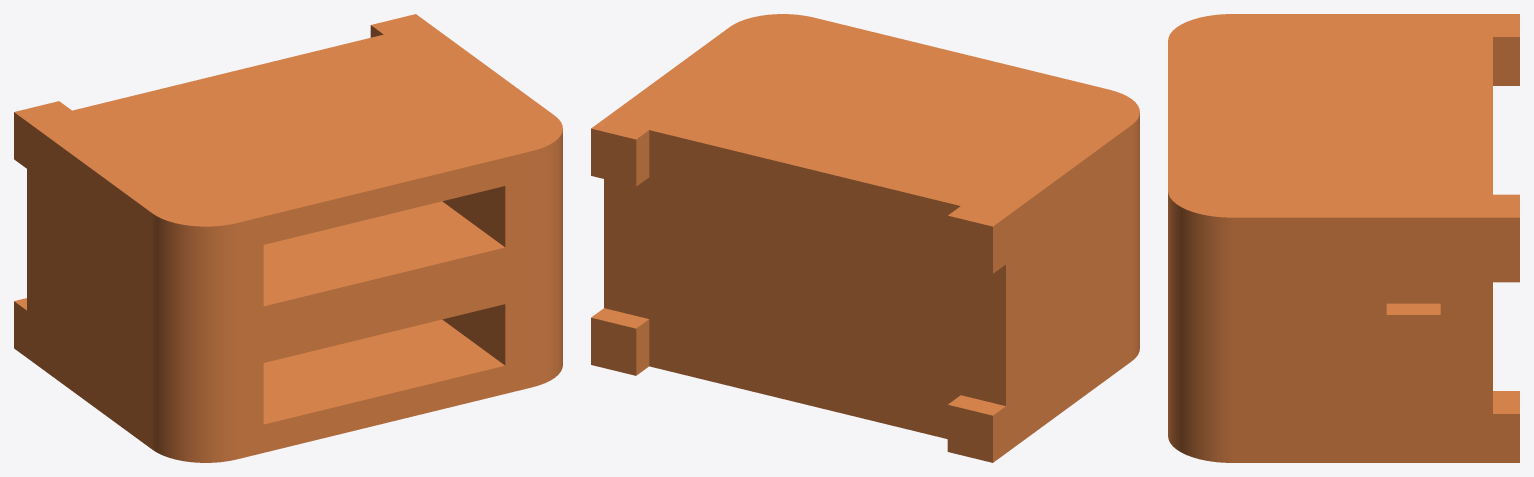
Rendered from Furniture_toaster.fbx.
3 views of the same model, side by side, from view 1: azimuth 30°, elevation 25°; view 2: azimuth 150°, elevation 25°; view 3: azimuth 270°, elevation 25° (orthographic). The views are drawn at different scales.
Parts seen in each view (by area): view 1: toaster; view 2: toaster; view 3: toaster.
Boxes of the visible parts, x1,y1,x2,y2 form: toaster: (14,14,562,462); toaster: (591,14,1139,462); toaster: (1168,14,1519,462).
Size of the model in its own units: 1.88 by 1 by 1.3.
